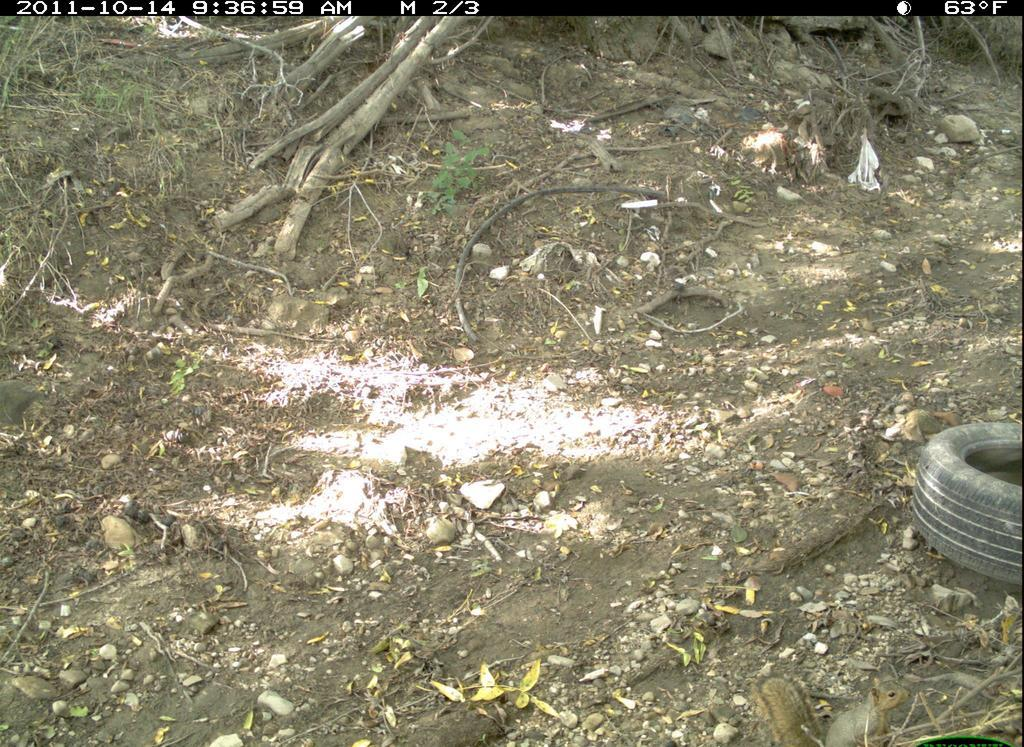squirrel: (728, 657, 900, 745)
